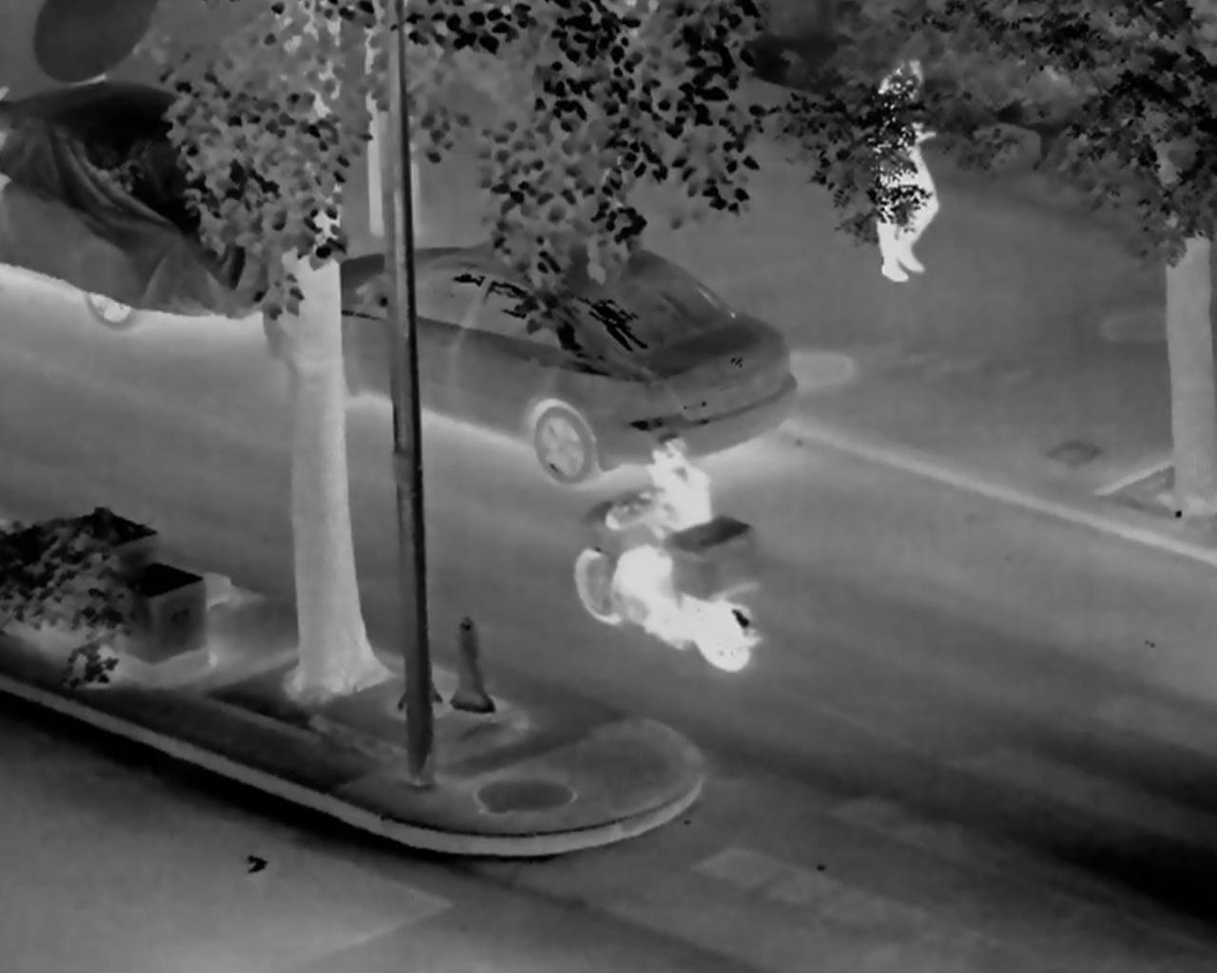person: (604, 433, 713, 614), (866, 60, 938, 280)
